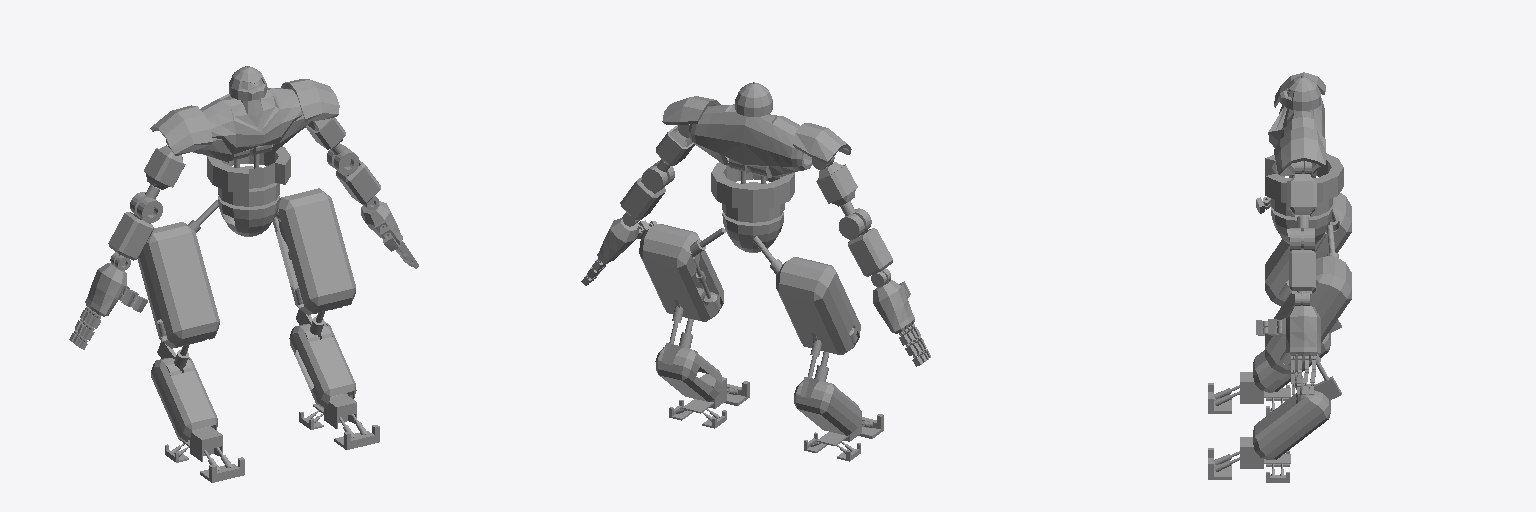
File: robotTEST2.obj
3 renders of one model, left to right at view 1: azimuth 30°, elevation 25°; view 2: azimuth 150°, elevation 25°; view 3: azimuth 270°, elevation 25°, orthographic.
Visible parts, largest first — view 1: Cylinder; view 2: Cylinder; view 3: Cylinder.
Boxes of the visible parts, x1=… form: Cylinder: x1=69, y1=66, x2=418, y2=482; Cylinder: x1=581, y1=82, x2=930, y2=461; Cylinder: x1=1208, y1=72, x2=1351, y2=482.
Size of the model in its own units: 18.25 by 18.55 by 6.69.